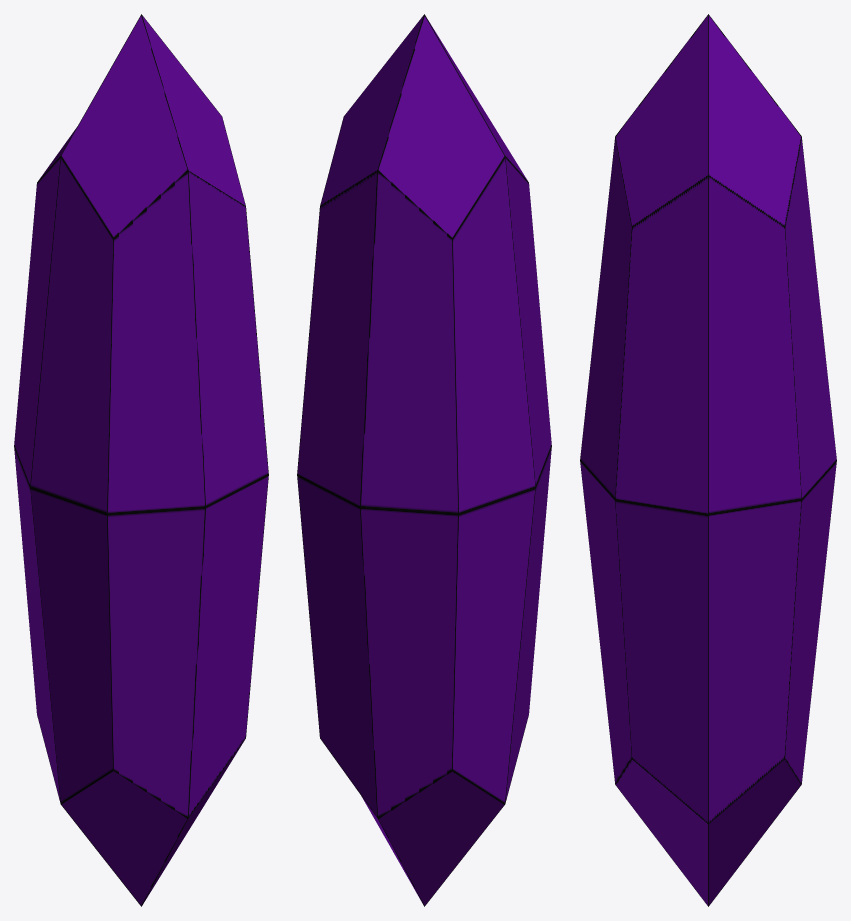
Rendered from Crystal.obj.
The picture shows the model from 3 angles, left to right: view 1: azimuth 30°, elevation 25°; view 2: azimuth 150°, elevation 25°; view 3: azimuth 270°, elevation 25°; orthographic projection.
Visible parts, largest first — view 1: Cube; view 2: Cube; view 3: Cube.
Boxes of the visible parts, x1=… form: Cube: x1=14, y1=14, x2=268, y2=906; Cube: x1=297, y1=14, x2=551, y2=906; Cube: x1=580, y1=14, x2=836, y2=906.
Size of the model in its own units: 1.68 by 6.44 by 1.68.
1 material, 1 textured.
